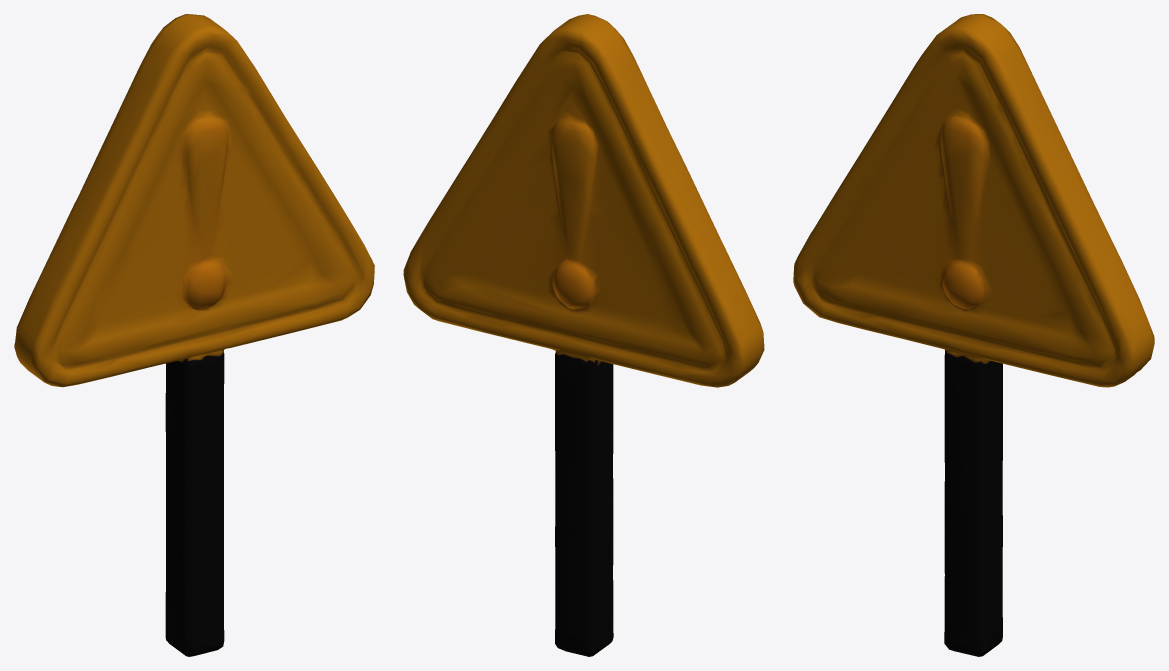
Rendered from gen3d-hazard-sign-lod0.glb.
3 views of the same model, side by side, from view 1: azimuth 30°, elevation 25°; view 2: azimuth 150°, elevation 25°; view 3: azimuth 330°, elevation 25° (orthographic).
Parts seen in each view (by area): view 1: part_0; view 2: part_0; view 3: part_0.
Part boxes in pixels (x1,y1,x2,y2): part_0: (14,14,374,656); part_0: (403,14,764,656); part_0: (793,14,1154,656).
Bounding box in the file's own units: 0.5726 × 0.9999 × 0.0889.
